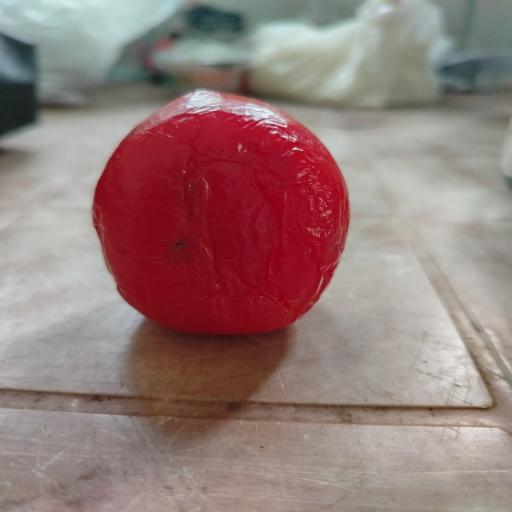spoiled: (93, 90, 349, 334)
